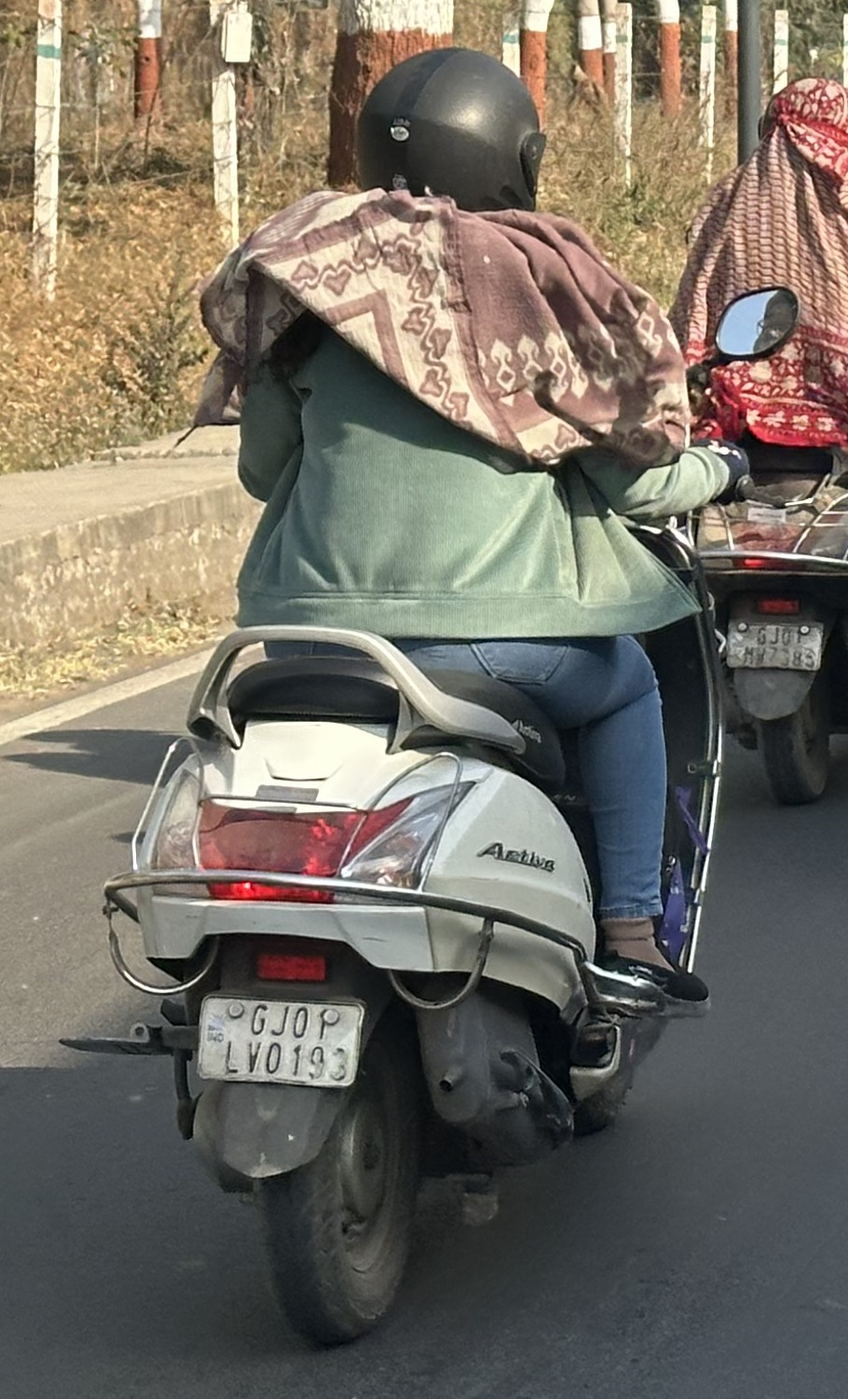BikeWithRider: (47, 36, 750, 1360)
Helmet: (322, 34, 544, 243)
